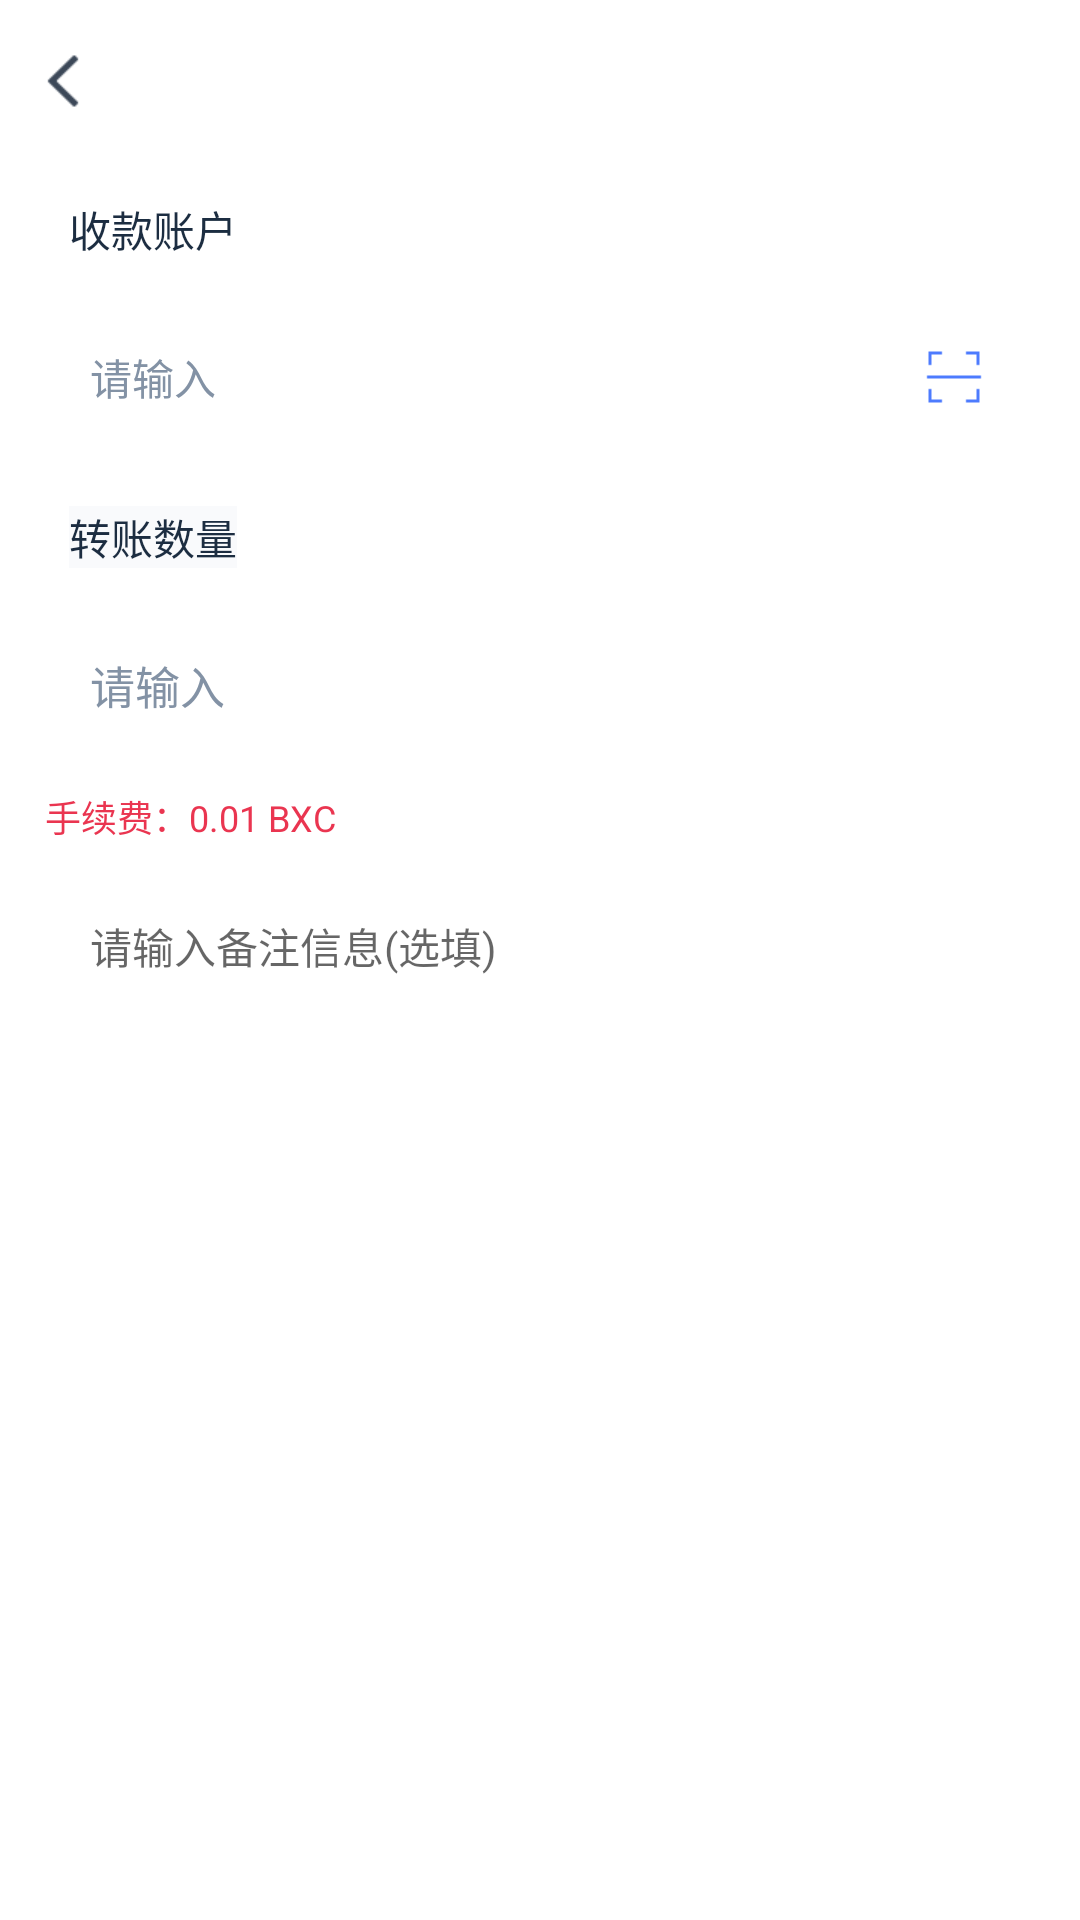

Icons on this 1080px x 1920px Android screen, each with the point to tap as [x,y]:
aty back: [63,81]
qr scan: [954,377]
